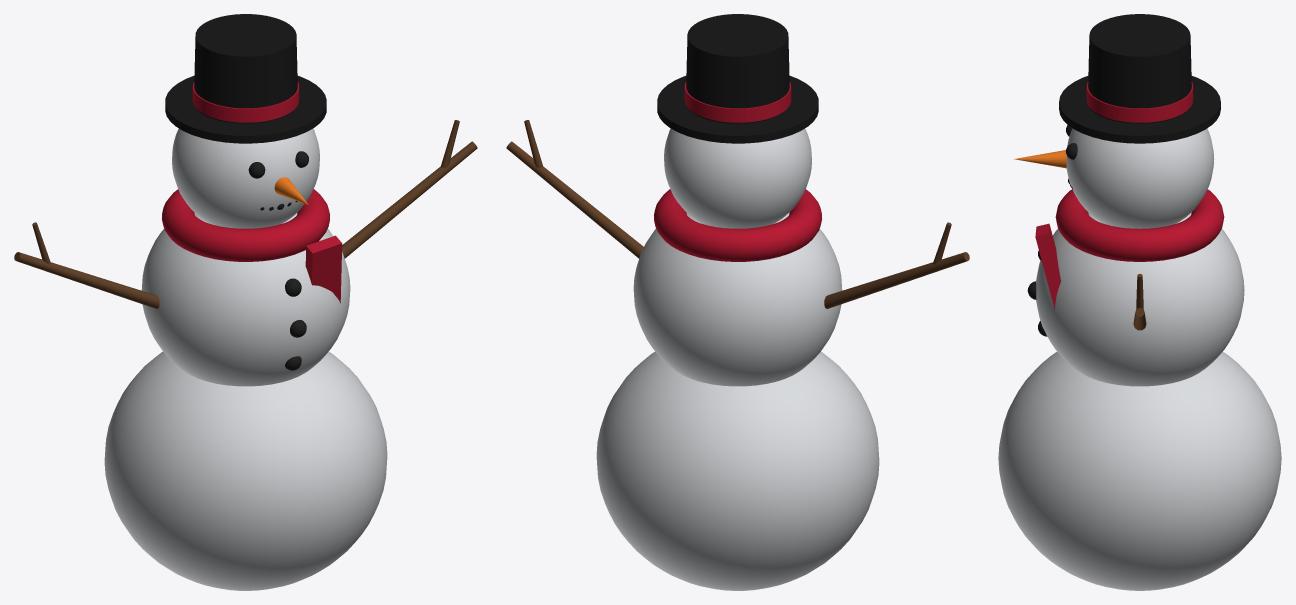
The model's file is snowman.glb.
The picture shows the model from 3 angles, left to right: view 1: azimuth 30°, elevation 25°; view 2: azimuth 150°, elevation 25°; view 3: azimuth 270°, elevation 25°; orthographic projection.
Parts seen in each view (by area): view 1: base, middle, head, hat_crown, scarf_ring, hat_brim, arm_r, arm_l, scarf_tail, hat_band; view 2: base, middle, head, hat_crown, scarf_ring, hat_brim, arm_r, arm_l, hat_band; view 3: base, middle, head, hat_crown, scarf_ring, hat_brim, hat_band, scarf_tail, nose.
Part boxes in pixels (<box>): base: <box>104,351,387,590</box>; middle: <box>141,212,350,386</box>; head: <box>172,128,319,228</box>; hat_crown: <box>194,14,297,123</box>; scarf_ring: <box>162,189,329,261</box>; hat_brim: <box>165,75,326,143</box>; arm_r: <box>342,141,477,258</box>; arm_l: <box>14,252,159,308</box>; scarf_tail: <box>305,235,342,303</box>; hat_band: <box>192,81,299,122</box>; base: <box>596,351,879,590</box>; middle: <box>633,212,842,386</box>; head: <box>664,128,811,228</box>; hat_crown: <box>686,14,789,123</box>; scarf_ring: <box>654,189,821,261</box>; hat_brim: <box>657,75,818,143</box>; arm_r: <box>506,141,643,258</box>; arm_l: <box>824,252,969,308</box>; hat_band: <box>684,81,791,122</box>; base: <box>998,352,1281,590</box>; middle: <box>1036,212,1244,386</box>; head: <box>1066,128,1213,228</box>; hat_crown: <box>1088,14,1191,123</box>; scarf_ring: <box>1055,189,1224,261</box>; hat_brim: <box>1059,76,1220,143</box>; hat_band: <box>1086,82,1193,122</box>; scarf_tail: <box>1035,223,1060,309</box>; nose: <box>1014,150,1066,168</box>.
Bounding box in the file's own units: 1.58 × 1.77 × 0.84.
